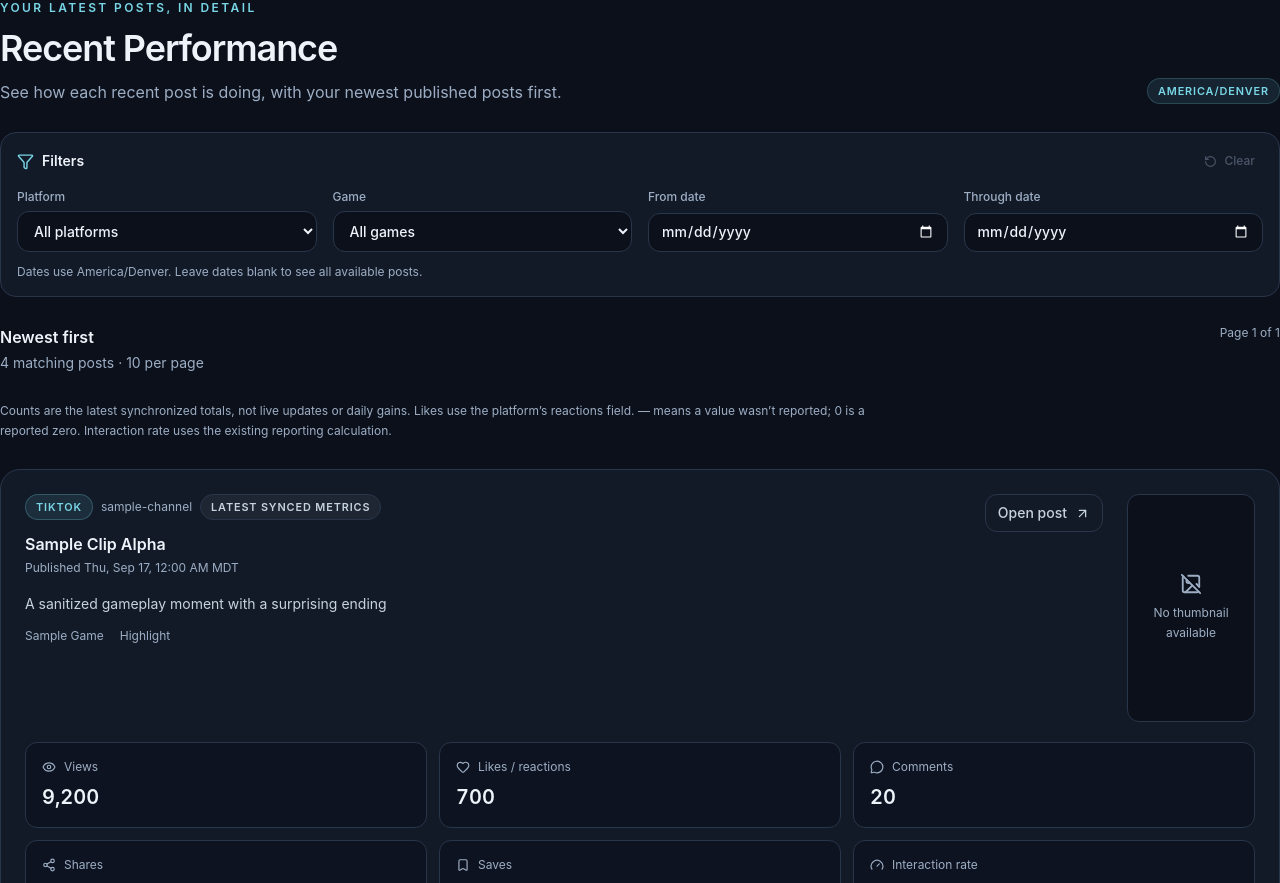
it: RecentPerformanceView › uses inclusive Denver publication dates and excludes invalid or missing dates when filtering
This screenshot has width=1280, height=883.
Type "2026-09-16" into the date field labelled "From date" at [798, 232], box x1=648 y1=212 x2=948 y2=252
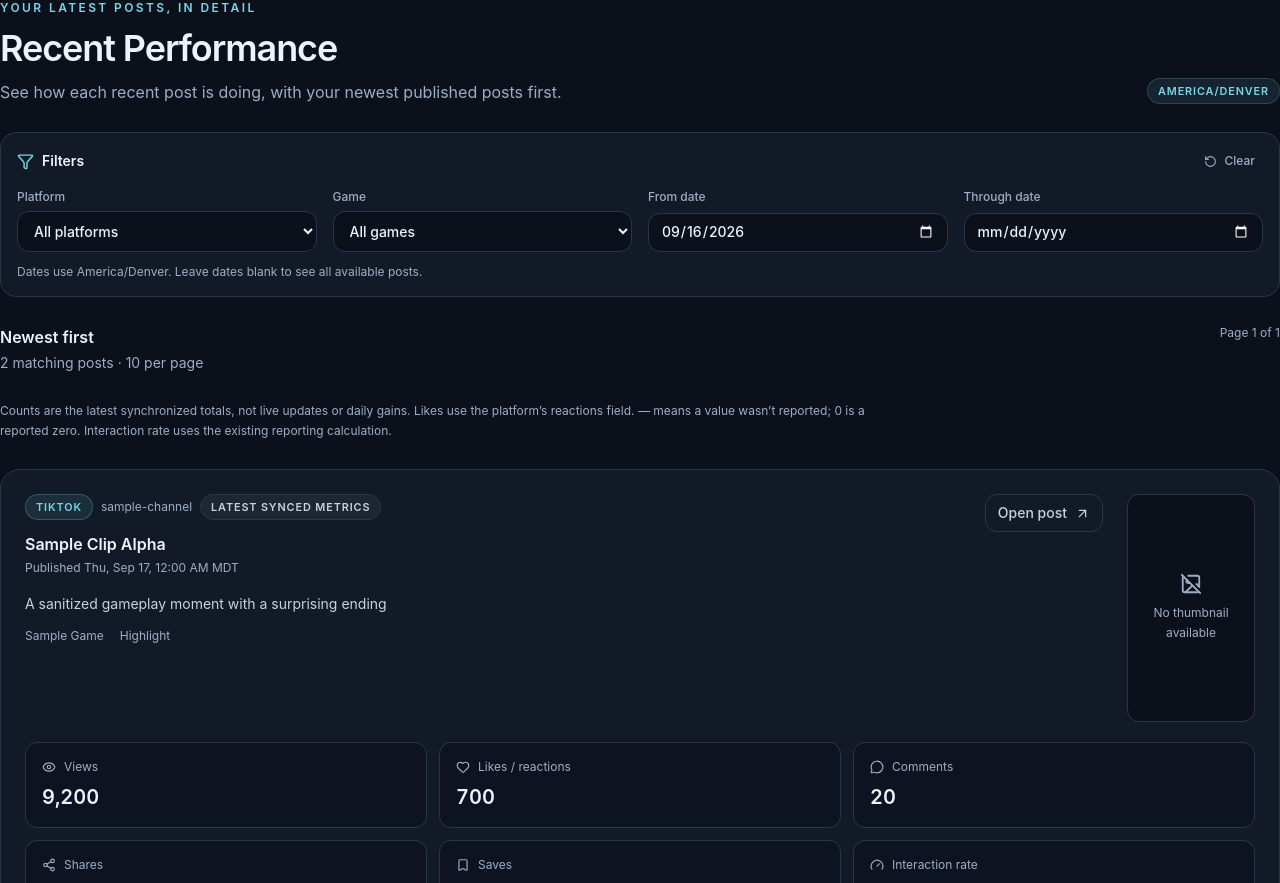
Type "2026-09-16" into the date field labelled "Through date" at [1113, 232], box x1=964 y1=212 x2=1263 y2=252
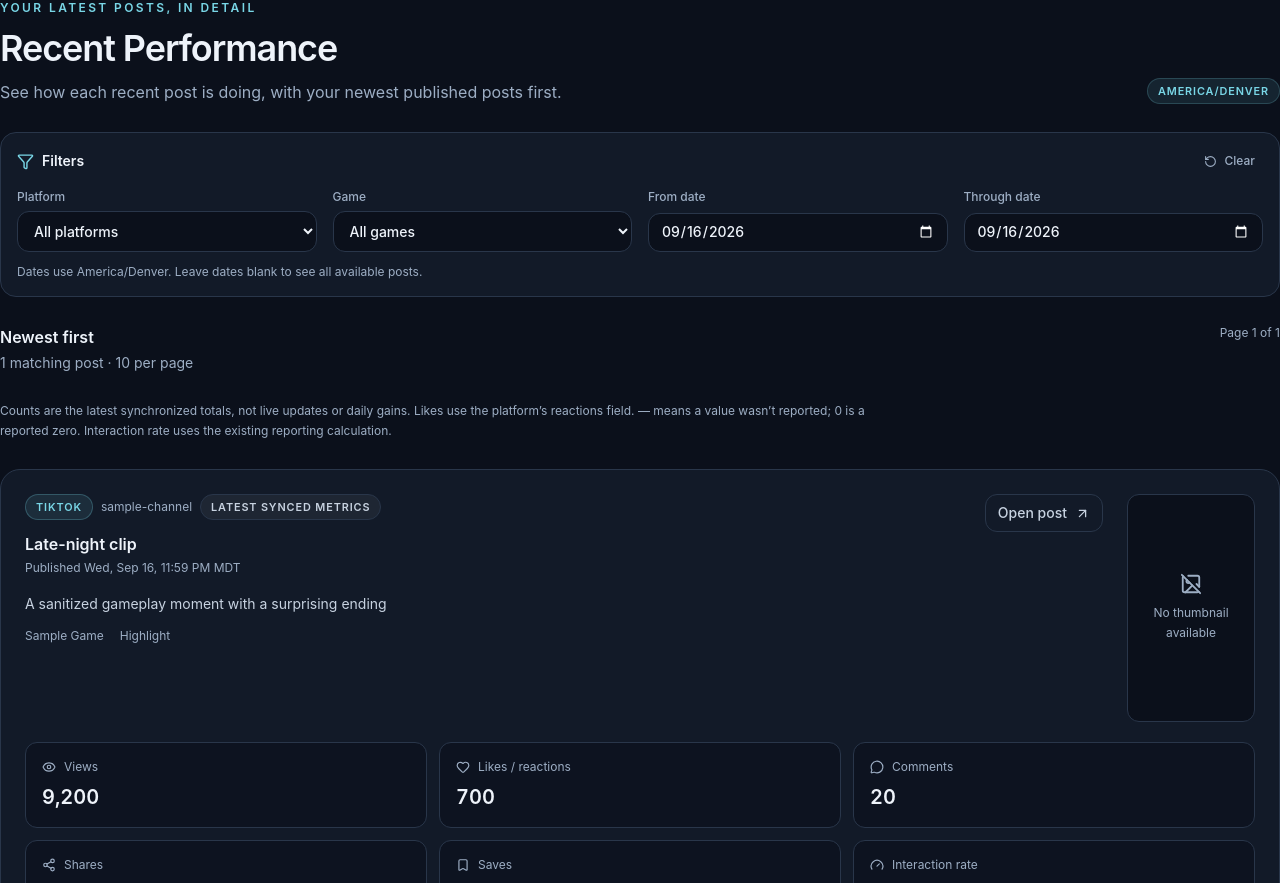
Type "2026-09-15" into the date field labelled "From date" at [798, 232], box x1=648 y1=212 x2=948 y2=252
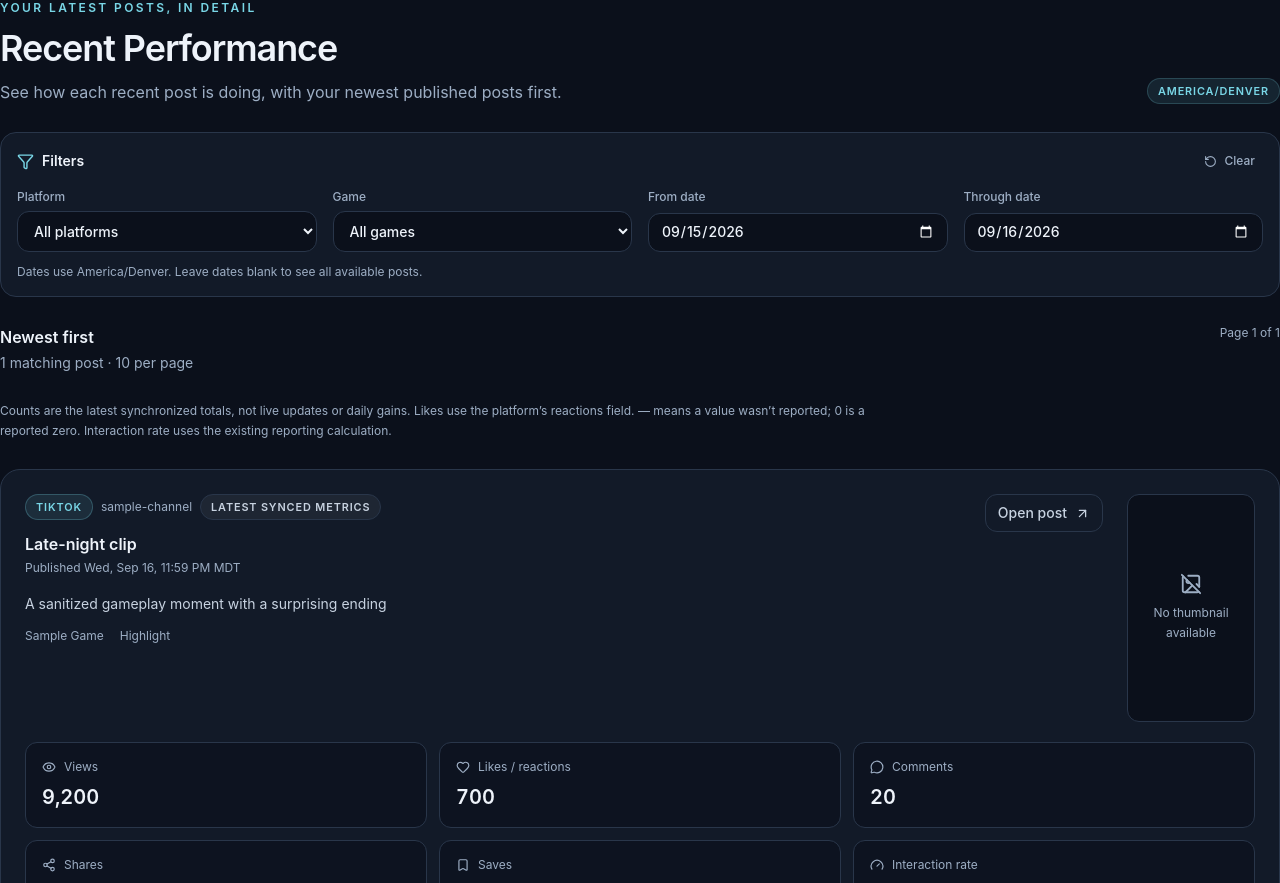
Type "2026-09-15" into the date field labelled "Through date" at [1113, 232], box x1=964 y1=212 x2=1263 y2=252
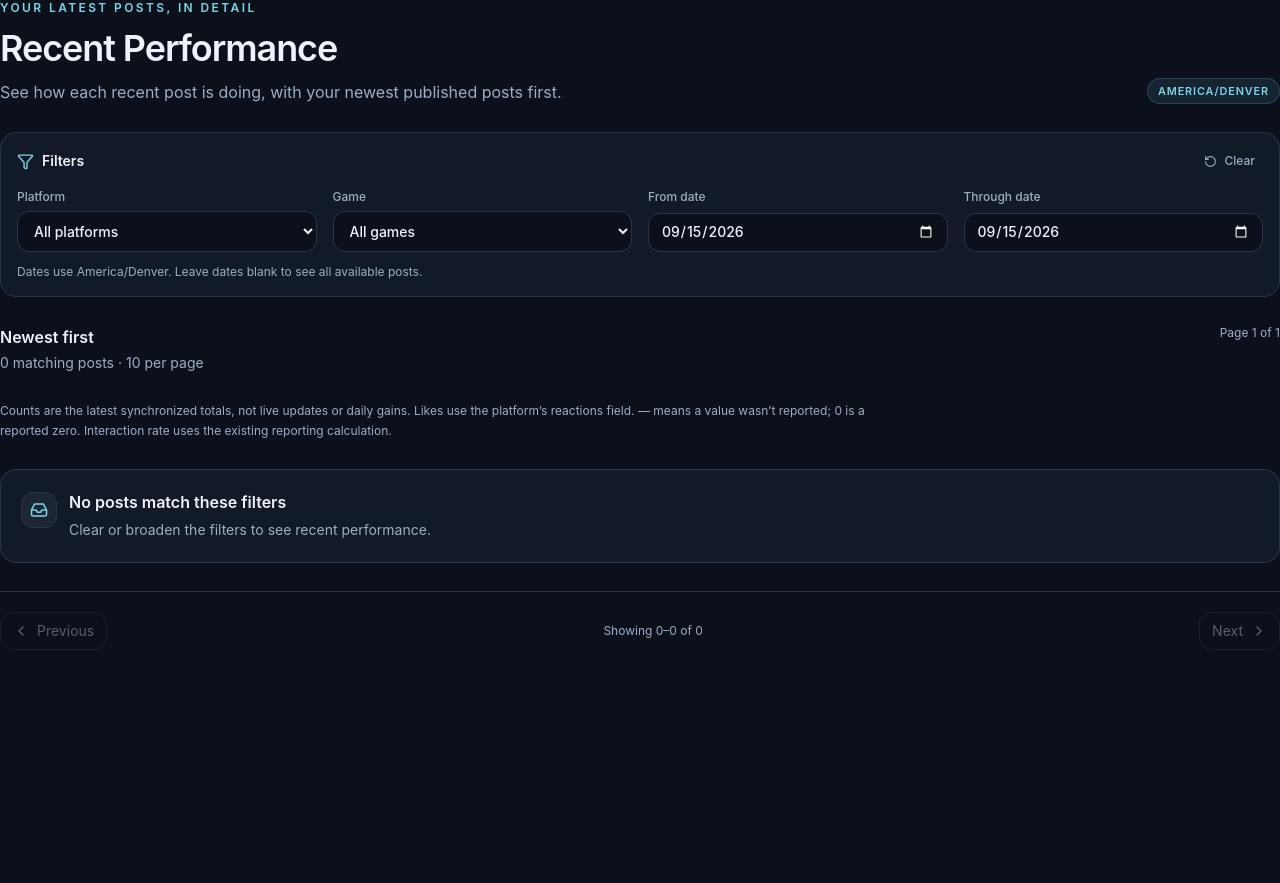
Check: the heading "No posts match these filters" is shown, box x1=69 y1=492 x2=286 y2=512
